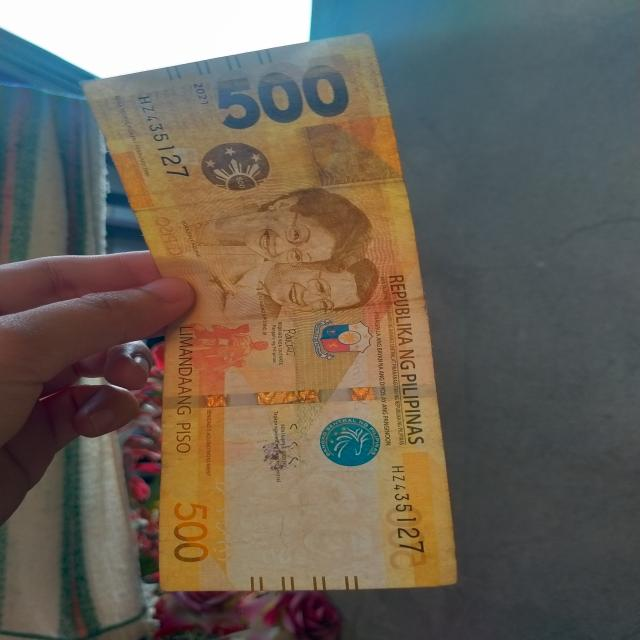concealed_value: (296, 111, 402, 185)
optically_variable_device: (184, 128, 284, 202)
security_thread: (152, 384, 439, 411)
see_through_mark: (192, 470, 249, 570)
serial_number: (125, 87, 198, 187), (390, 455, 430, 562)
value_watermark: (264, 543, 316, 567)
watermark: (230, 462, 390, 570)
